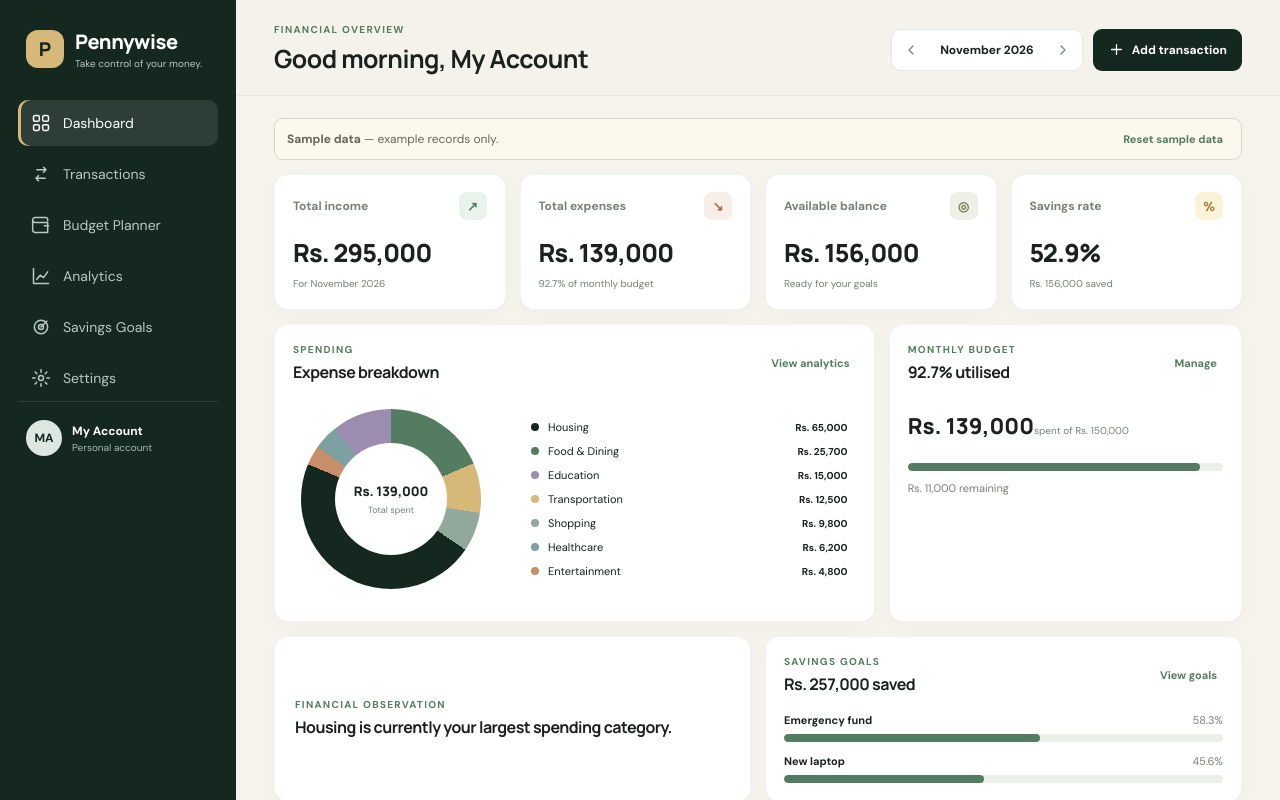
month navigation and analytics controls update from stored transactions
Later steps or results of the test are not shown.
What coordinates should you click on to do the following:
click the button named "Previous month"
I would click on:
 (911, 50)
Its box is x1=896 y1=34 x2=926 y2=64.
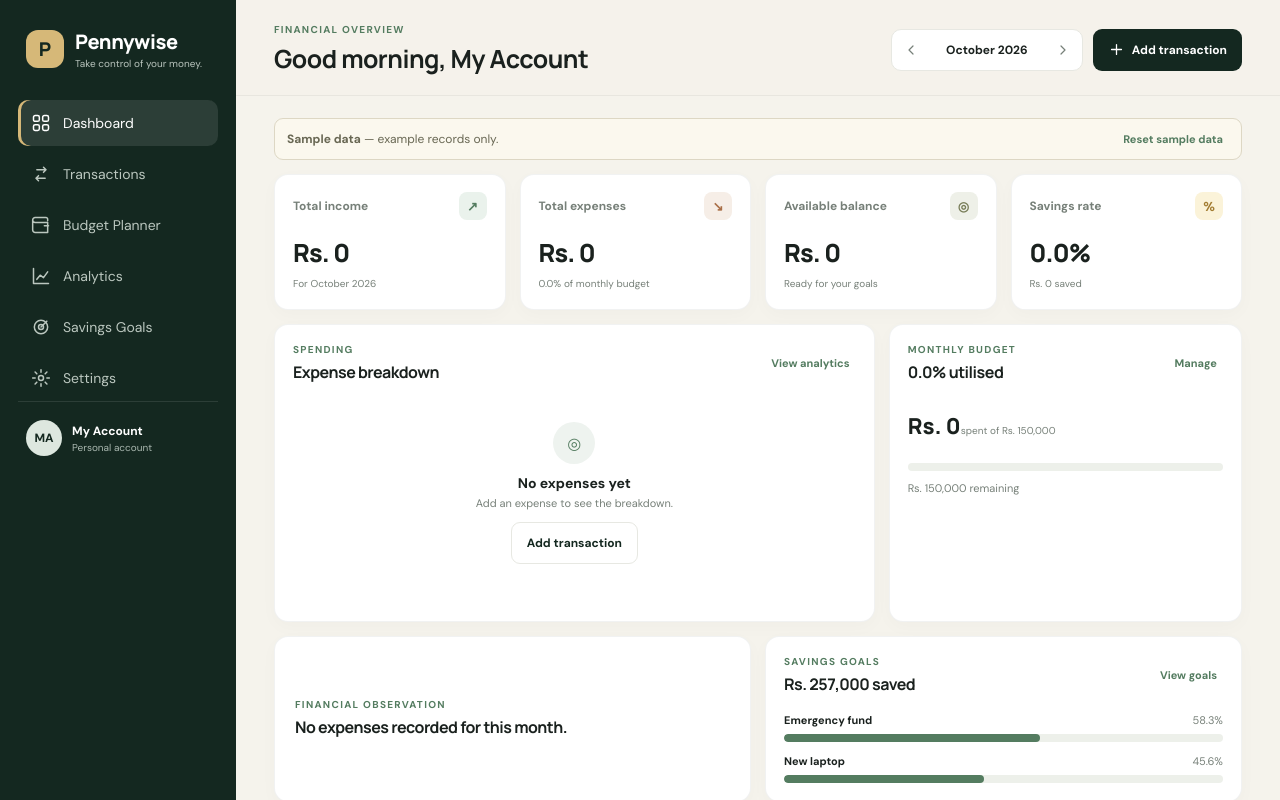
Result: the text "Rs. 0" below "Total income" is shown at x1=293 y1=235 x2=349 y2=270
